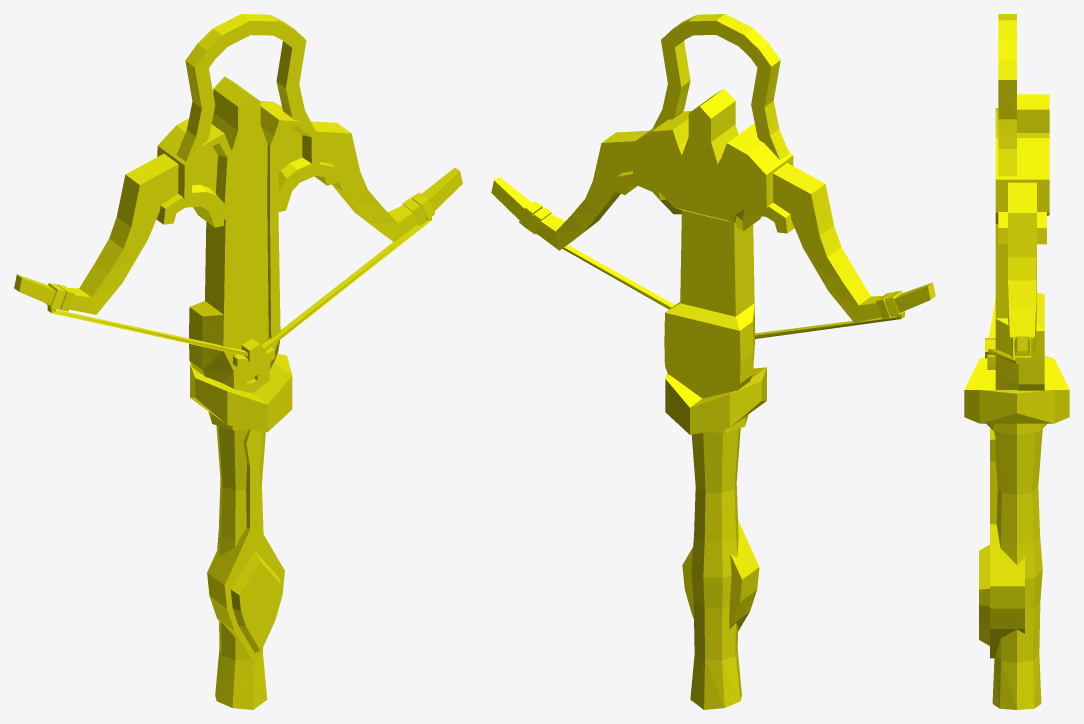
Rendered from _crossbow_3.glb.
The picture shows the model from 3 angles, left to right: view 1: azimuth 30°, elevation 25°; view 2: azimuth 150°, elevation 25°; view 3: azimuth 270°, elevation 25°; orthographic projection.
Parts seen in each view (by area): view 1: crossbow_3; view 2: crossbow_3; view 3: crossbow_3.
Part boxes in pixels (x1=…): crossbow_3: x1=14, y1=14, x2=462, y2=709; crossbow_3: x1=491, y1=14, x2=935, y2=709; crossbow_3: x1=964, y1=14, x2=1069, y2=709.
Bounding box in the file's own units: 20912 × 30941 × 4325.
